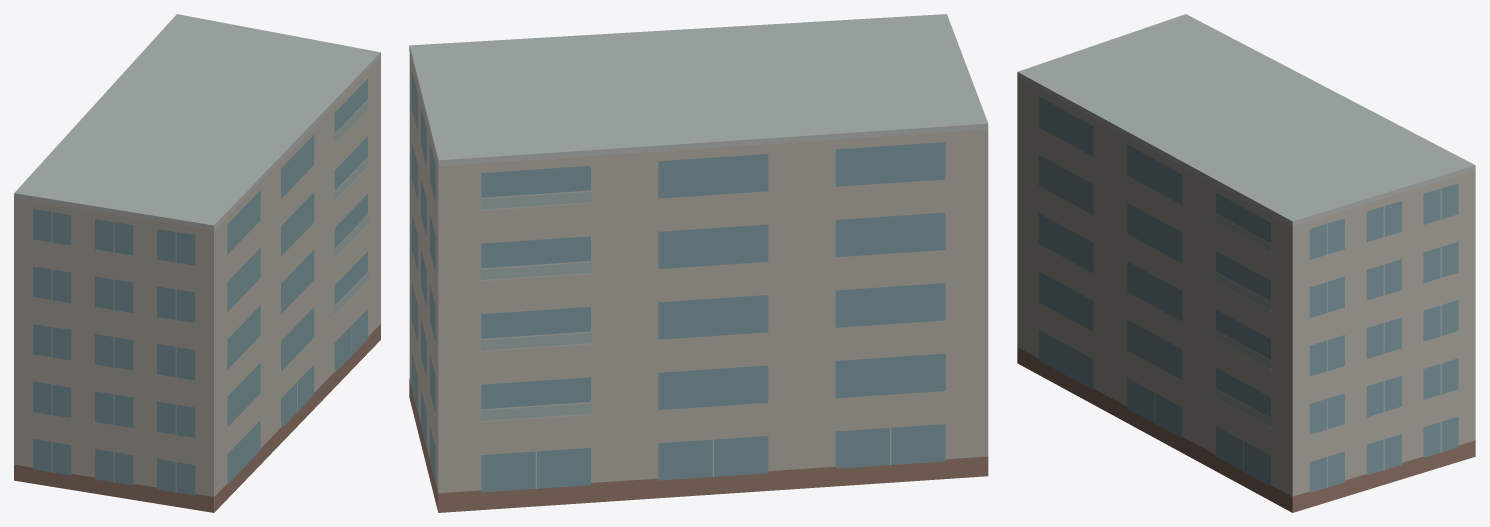
Rendered from survey-upis-32645906.glb.
The picture shows the model from 3 angles, left to right: view 1: azimuth 30°, elevation 25°; view 2: azimuth 150°, elevation 25°; view 3: azimuth 270°, elevation 25°; orthographic projection. The views are drawn at different scales.
Visible parts, largest first — view 1: survey-upis-32645906.tmp; view 2: survey-upis-32645906.tmp; view 3: survey-upis-32645906.tmp.
Boxes of the visible parts, <box> form: survey-upis-32645906.tmp: <box>14,14,380,512</box>; survey-upis-32645906.tmp: <box>409,14,988,512</box>; survey-upis-32645906.tmp: <box>1017,14,1475,512</box>.
Size of the model in its own units: 22.6 by 14.8 by 21.1.
